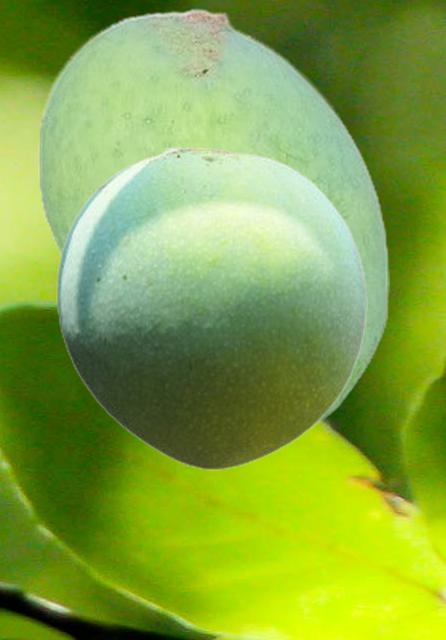green_mango: (38, 7, 388, 432), (56, 145, 366, 469)
